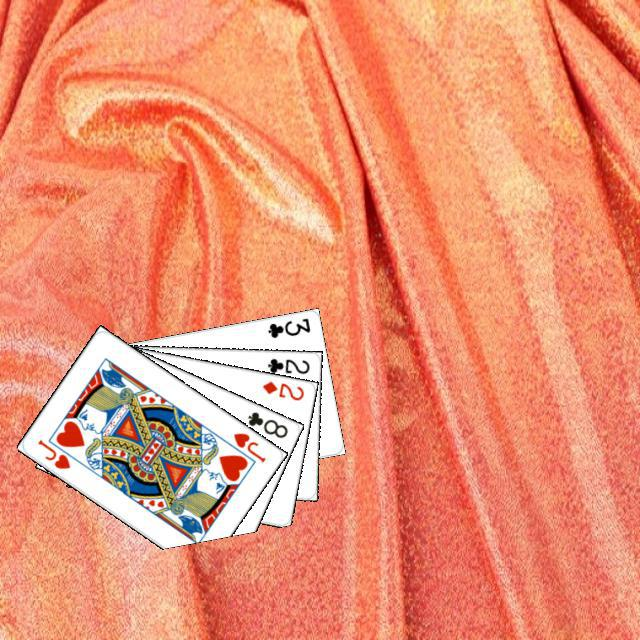2c: (263, 353, 311, 375)
2d: (257, 376, 305, 402)
3c: (262, 313, 312, 340)
8c: (243, 407, 290, 440)
Jh: (33, 434, 72, 471), (228, 428, 267, 464)
